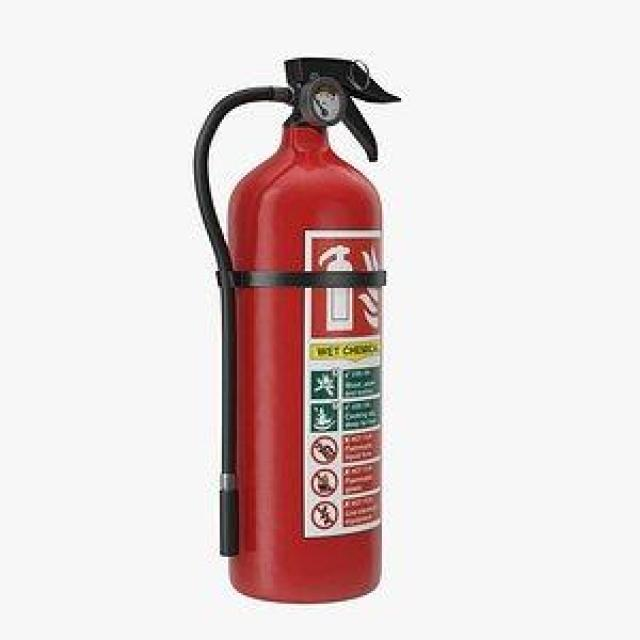fire_extinguisher: (182, 46, 408, 607)
